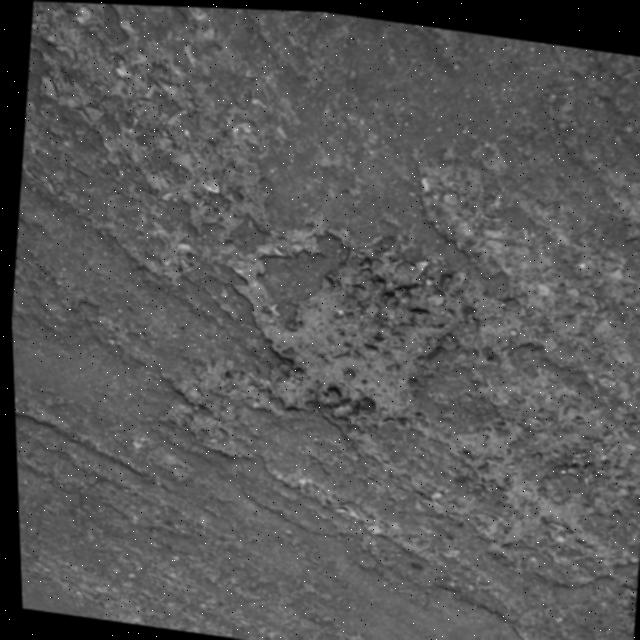Pothole: (236, 226, 468, 442)
